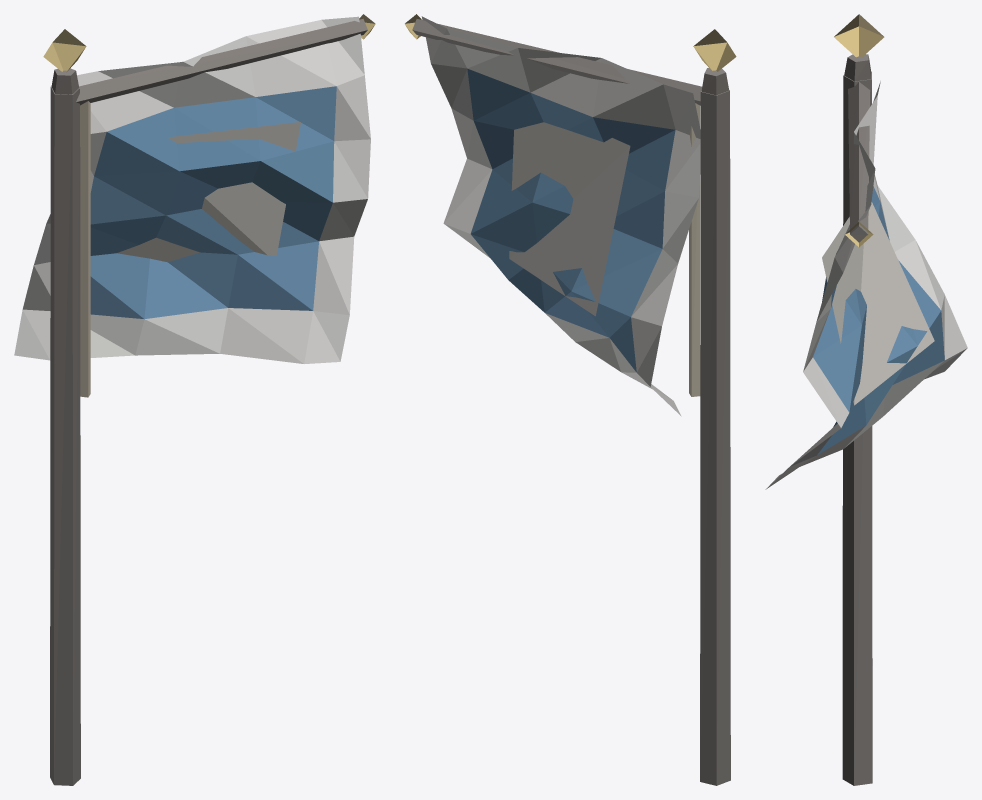
Rendered from flag.square.qingqi__pole.stick.fangun__armHang.glb.
The picture shows the model from 3 angles, left to right: view 1: azimuth 30°, elevation 25°; view 2: azimuth 150°, elevation 25°; view 3: azimuth 270°, elevation 25°; orthographic projection. The views are drawn at different scales.
Visible parts, largest first — view 1: flag.square.qingqi; view 2: flag.square.qingqi; view 3: flag.square.qingqi.
Part boxes in pixels (x1=…): flag.square.qingqi: x1=14, y1=14, x2=375, y2=785; flag.square.qingqi: x1=404, y1=14, x2=736, y2=785; flag.square.qingqi: x1=765, y1=14, x2=967, y2=785.
Bounding box in the file's own units: 1.06 × 2.28 × 0.5482.
